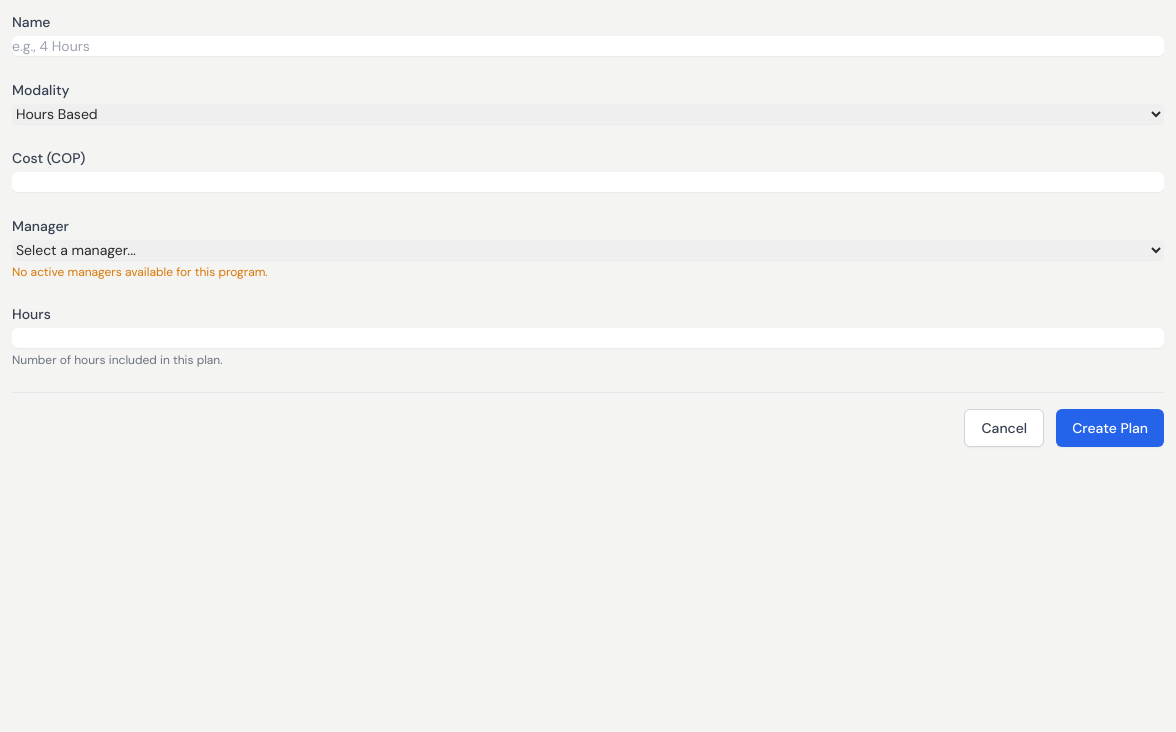
Test case: ProgramPlanForm › CLASSES_PER_WEEK modality › should add and remove schedule entries
This screenshot has width=1176, height=732.
Select "Classes per Week" in the dropdown labelled "Modality": (588, 114) [12,104,1164,124]
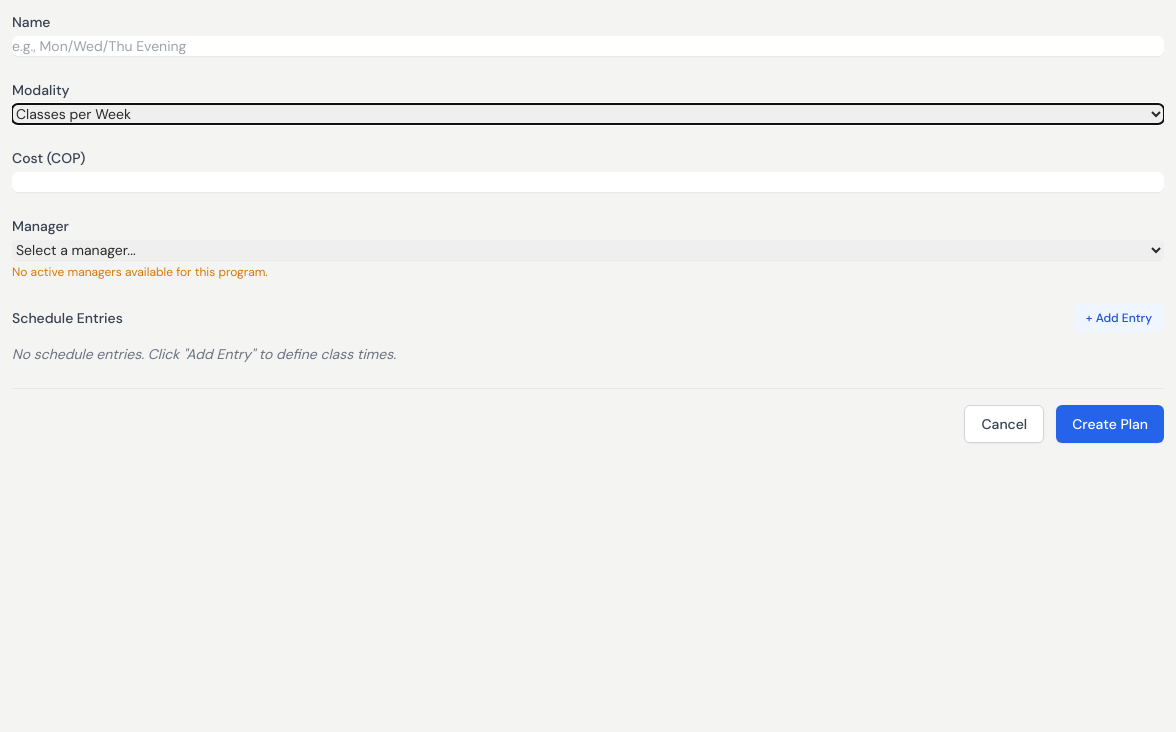
Click the button "+ Add Entry": (1119, 318) [1074,304,1164,332]
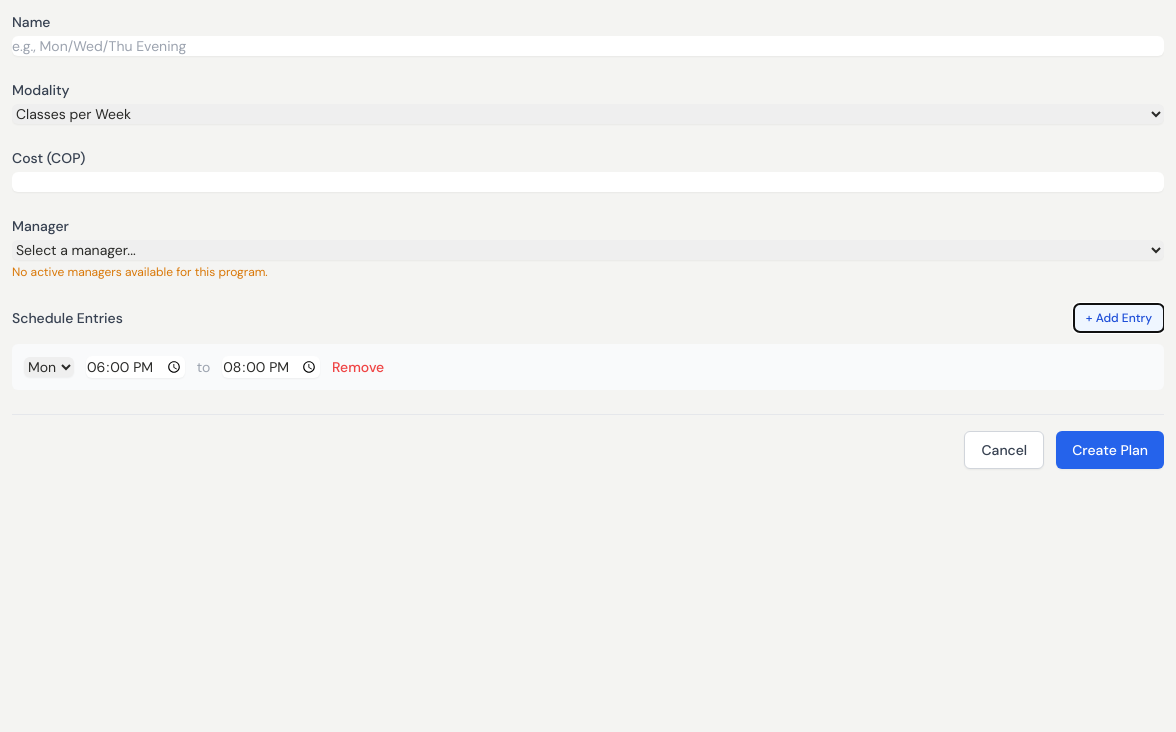
Now the number of dropdowns named "day of week" is 1, box [24,357,74,377]
Click the button "+ Add Entry": (1119, 318) [1074,304,1164,332]
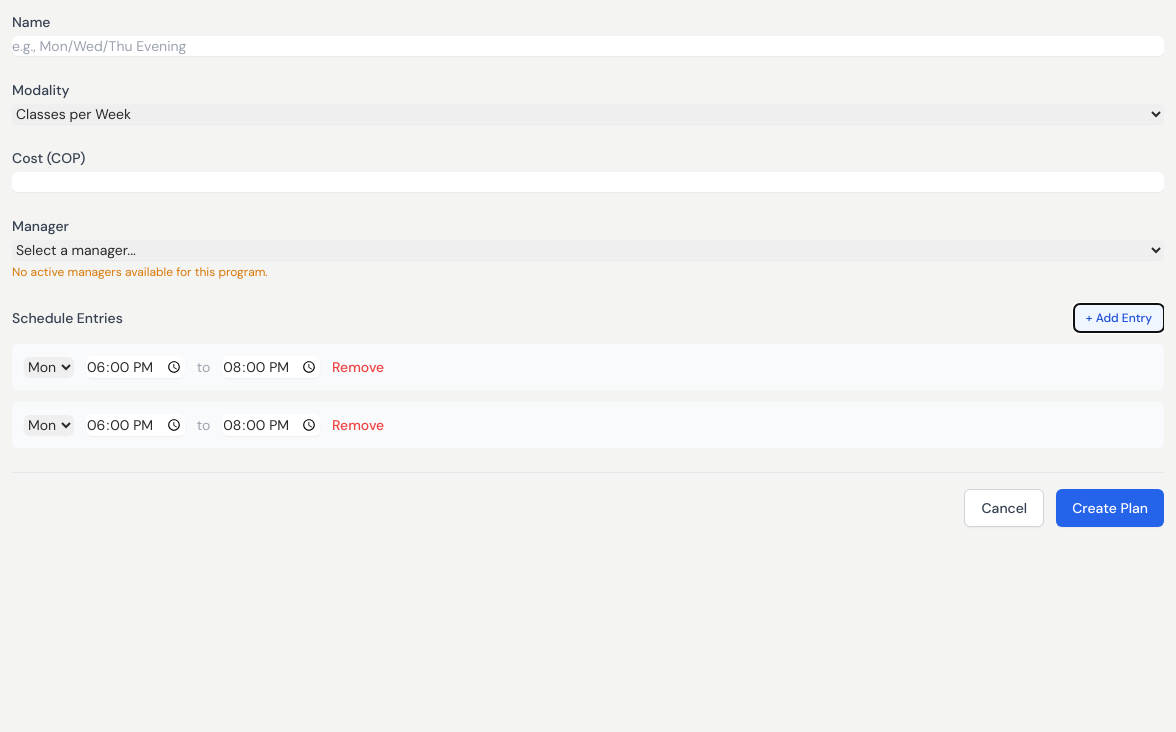
Now the number of dropdowns named "day of week" is 2, box [24,357,74,377]; [24,415,74,435]
Click the 1st button "Remove": (358, 367) [332,357,384,377]
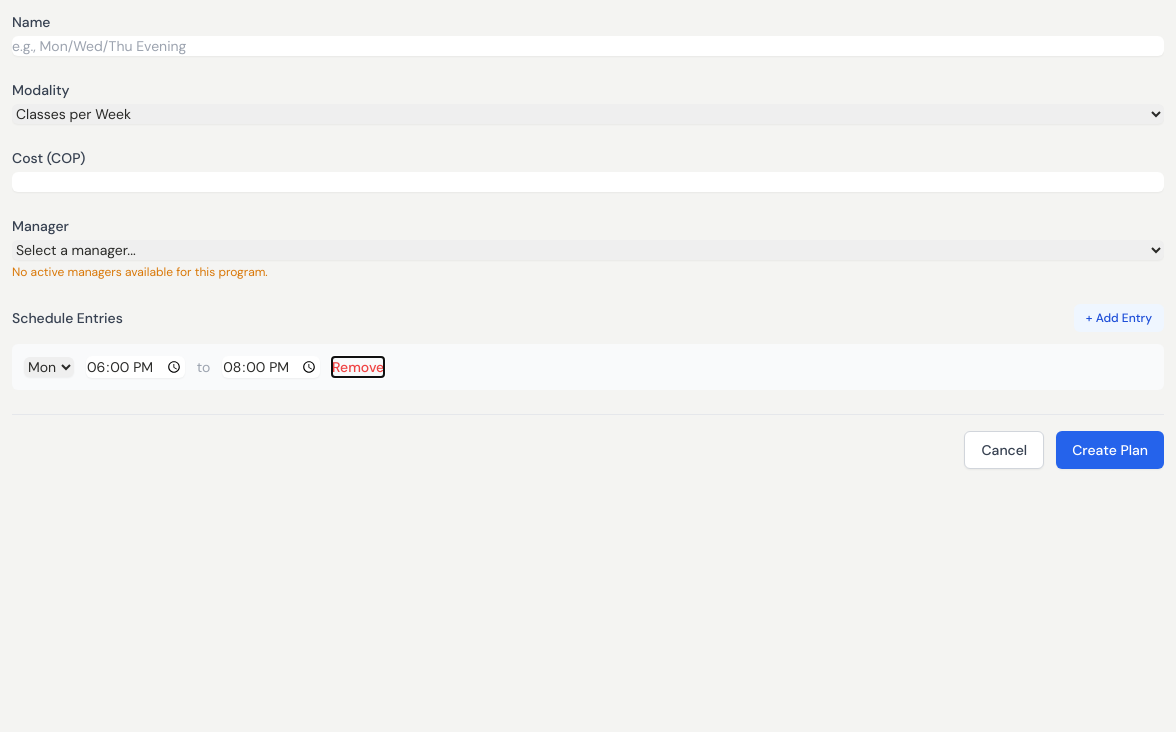
Now the number of dropdowns named "day of week" is 1, box [24,357,74,377]
